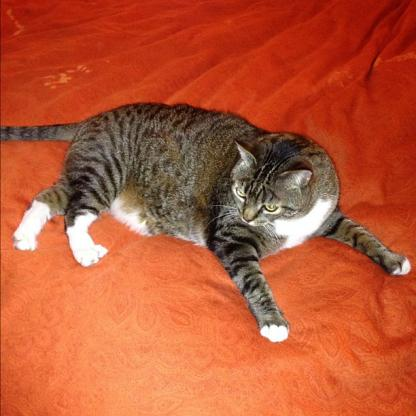Target: (1, 101, 413, 346)
